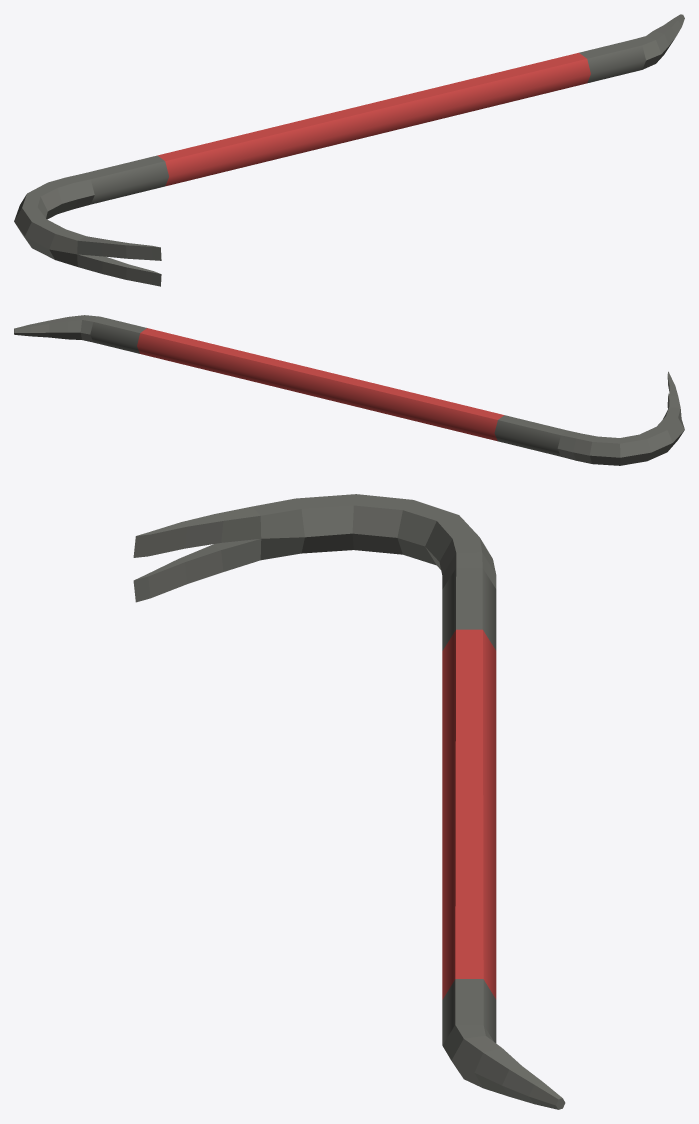
Rendered from bar.FBX.
3 renders of one model, top to bottom at view 1: azimuth 30°, elevation 25°; view 2: azimuth 150°, elevation 25°; view 3: azimuth 270°, elevation 25°, orthographic. The views are drawn at different scales.
Visible parts, largest first — view 1: Box003; view 2: Box003; view 3: Box003.
Boxes of the visible parts, box(x1,y1,x2,y2) form: Box003: box(14, 14, 684, 286); Box003: box(14, 315, 684, 465); Box003: box(133, 494, 565, 1109).
Size of the model in its own units: 119 by 6.22 by 36.61.
1 material, 1 textured.
